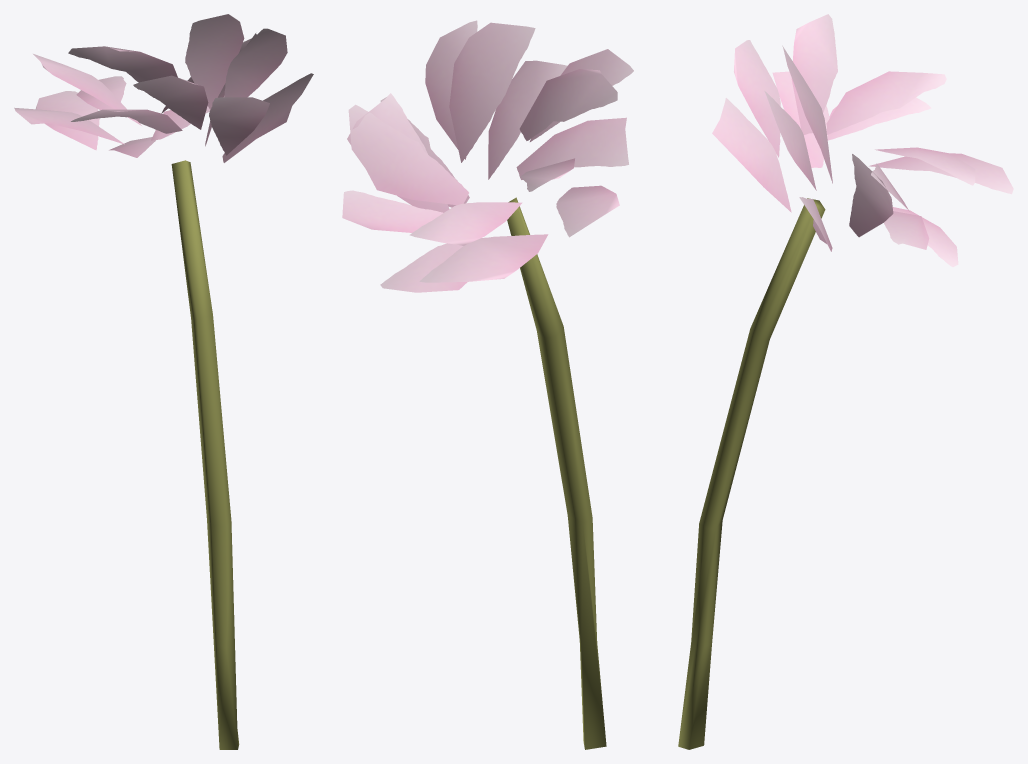
Rendered from yellowTallSingle.fbx.
3 views of the same model, side by side, from view 1: azimuth 30°, elevation 25°; view 2: azimuth 150°, elevation 25°; view 3: azimuth 270°, elevation 25° (orthographic). The views are drawn at different scales.
Visible parts, largest first — view 1: Cylinder.002, Cylinder.000; view 2: Cylinder.002, Cylinder.000; view 3: Cylinder.002, Cylinder.000.
Part boxes in pixels (x1,y1,x2,y2): Cylinder.002: [14, 14, 313, 162]; Cylinder.000: [171, 160, 239, 749]; Cylinder.002: [342, 20, 633, 292]; Cylinder.000: [507, 197, 606, 749]; Cylinder.002: [712, 14, 1013, 266]; Cylinder.000: [678, 198, 825, 749].
Bounding box in the file's own units: 46.35 × 119 × 51.39.
